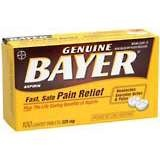grozi_24: (0, 28, 160, 132)
